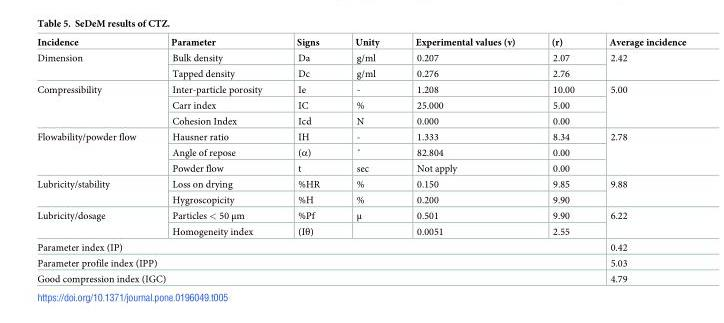table: (36, 36, 685, 283)
table column: (396, 36, 532, 283), (152, 36, 278, 283), (36, 36, 152, 283), (591, 36, 685, 283), (336, 36, 396, 283), (532, 36, 591, 283), (278, 36, 336, 283)
table column header: (36, 36, 685, 49)
table row: (36, 143, 685, 160), (36, 206, 685, 223), (36, 49, 685, 65), (36, 65, 685, 81), (36, 81, 685, 97), (36, 112, 685, 128), (36, 160, 685, 176), (36, 223, 685, 239), (36, 239, 685, 255), (36, 97, 685, 112), (36, 128, 685, 143), (36, 176, 685, 191), (36, 191, 685, 206), (36, 255, 685, 270), (36, 36, 685, 49), (36, 270, 685, 283)
table spanning cell: (36, 239, 591, 255), (36, 255, 591, 270), (36, 270, 591, 283), (36, 128, 152, 176), (36, 81, 152, 128), (591, 128, 685, 176), (591, 81, 685, 128), (36, 206, 152, 239), (36, 49, 152, 81), (36, 176, 152, 206), (591, 206, 685, 239), (591, 49, 685, 81), (591, 176, 685, 206)
